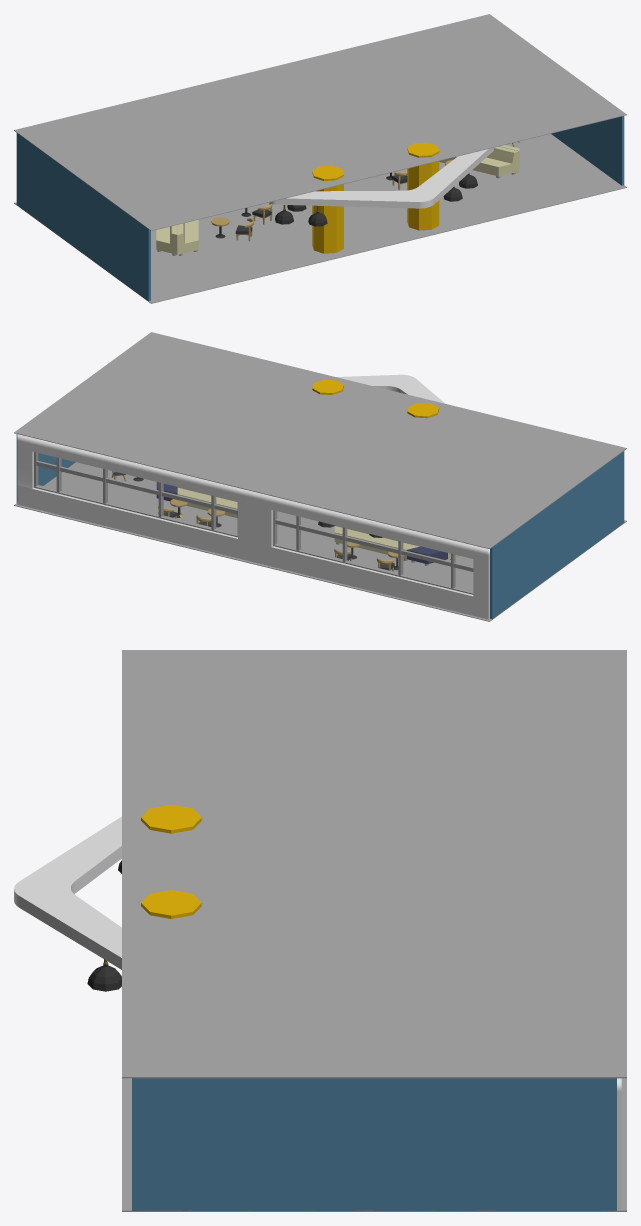
Rendered from FTIC Lounge Area.fbx.
3 renders of one model, top to bottom at view 1: azimuth 30°, elevation 25°; view 2: azimuth 150°, elevation 25°; view 3: azimuth 270°, elevation 25°, orthographic. The views are drawn at different scales.
Parts seen in each view (by area): view 1: FTIC_Roof, FTIC_Floor, FTIC_Left_Wall, FTIC_Ceiling_Decor, FTIC_Right_Wall, FTIC_Lounge_Pillar_2, FTIC_Lounge_Pillar_1, Main_Sofa_1 (×2), Main_Sofa_2; view 2: FTIC_Roof, FTIC_Back_Wall, FTIC_Left_Wall, FTIC_Floor, FTIC_Back_Window, Main_Sofa_4 (×2), FTIC_Ceiling_Decor, FTIC_Right_Wall, FTIC_Lounge_Pillar_2; view 3: FTIC_Roof, FTIC_Right_Wall, FTIC_Ceiling_Decor, FTIC_Floor, FTIC_Lounge_Pillar_1, FTIC_Lounge_Pillar_2.
Part boxes in pixels (x1,y1,x2,y2): FTIC_Roof: (14, 14, 626, 230); FTIC_Floor: (14, 134, 626, 303); FTIC_Left_Wall: (16, 133, 150, 301); FTIC_Ceiling_Decor: (270, 147, 493, 208); FTIC_Right_Wall: (551, 116, 624, 185); FTIC_Lounge_Pillar_2: (312, 165, 343, 253); FTIC_Lounge_Pillar_1: (407, 142, 439, 230); Main_Sofa_1 (×2): (177, 146, 519, 254); Main_Sofa_2: (156, 225, 177, 254); FTIC_Roof: (14, 332, 626, 548); FTIC_Back_Wall: (17, 434, 489, 619); FTIC_Left_Wall: (490, 451, 624, 619); FTIC_Floor: (14, 462, 626, 621); FTIC_Back_Window: (34, 457, 473, 594); Main_Sofa_4 (×2): (177, 487, 420, 559); FTIC_Ceiling_Decor: (336, 374, 444, 403); FTIC_Right_Wall: (16, 434, 75, 502); FTIC_Lounge_Pillar_2: (407, 403, 439, 418); FTIC_Roof: (122, 650, 626, 1078); FTIC_Right_Wall: (132, 1078, 616, 1210); FTIC_Ceiling_Decor: (14, 816, 121, 969); FTIC_Floor: (122, 1078, 626, 1211); FTIC_Lounge_Pillar_1: (141, 890, 201, 918); FTIC_Lounge_Pillar_2: (141, 804, 201, 833).
Size of the model in its own units: 200 by 31 by 121.
